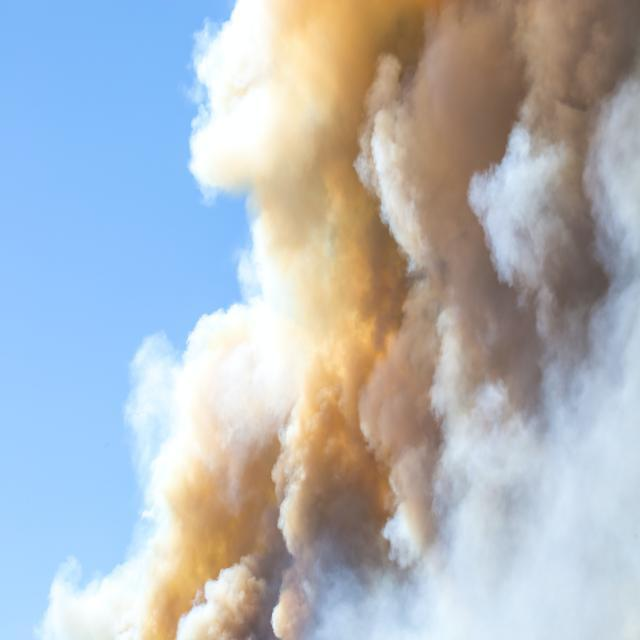Smoke: (204, 5, 627, 620)
